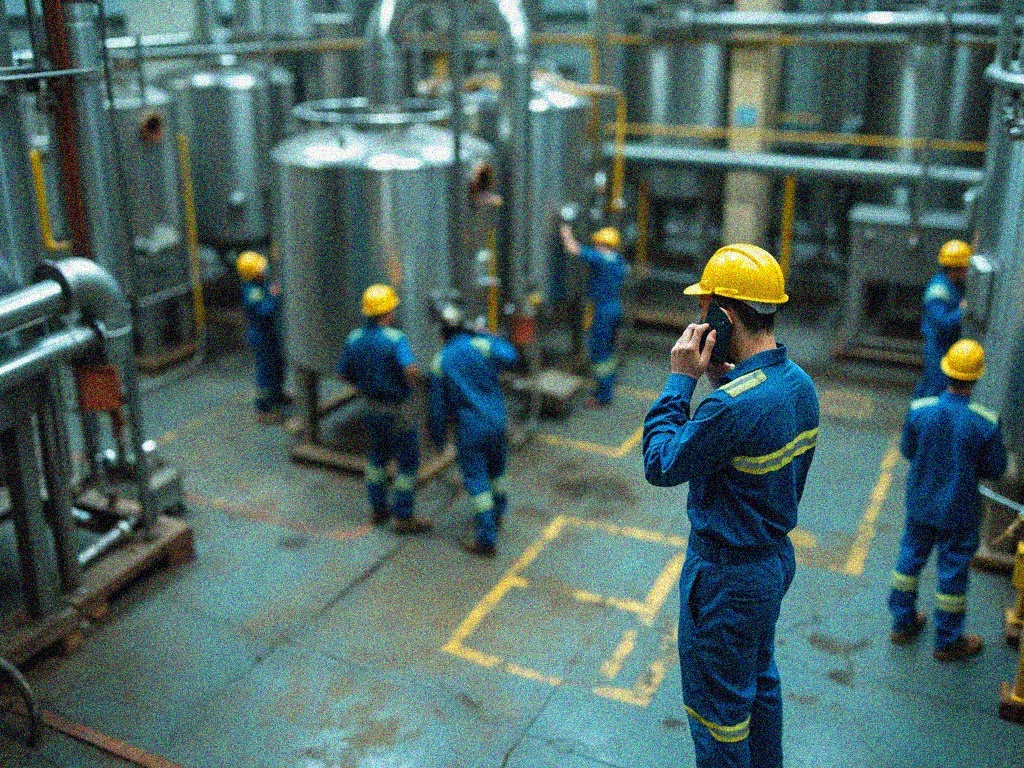safety_cap: (678, 239, 795, 316), (937, 325, 987, 386), (355, 280, 404, 323), (933, 227, 974, 274), (231, 246, 270, 284), (588, 221, 625, 252)
